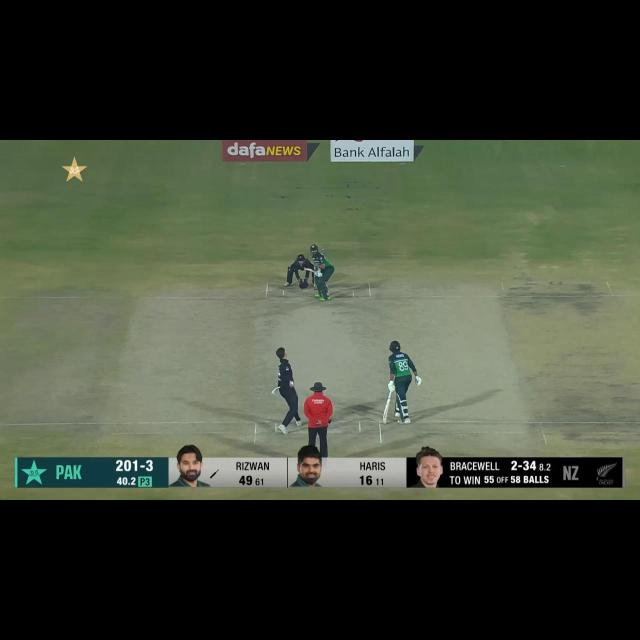bat: (380, 395, 394, 424), (303, 266, 315, 274)
toe: (382, 416, 388, 424), (303, 266, 308, 271)
